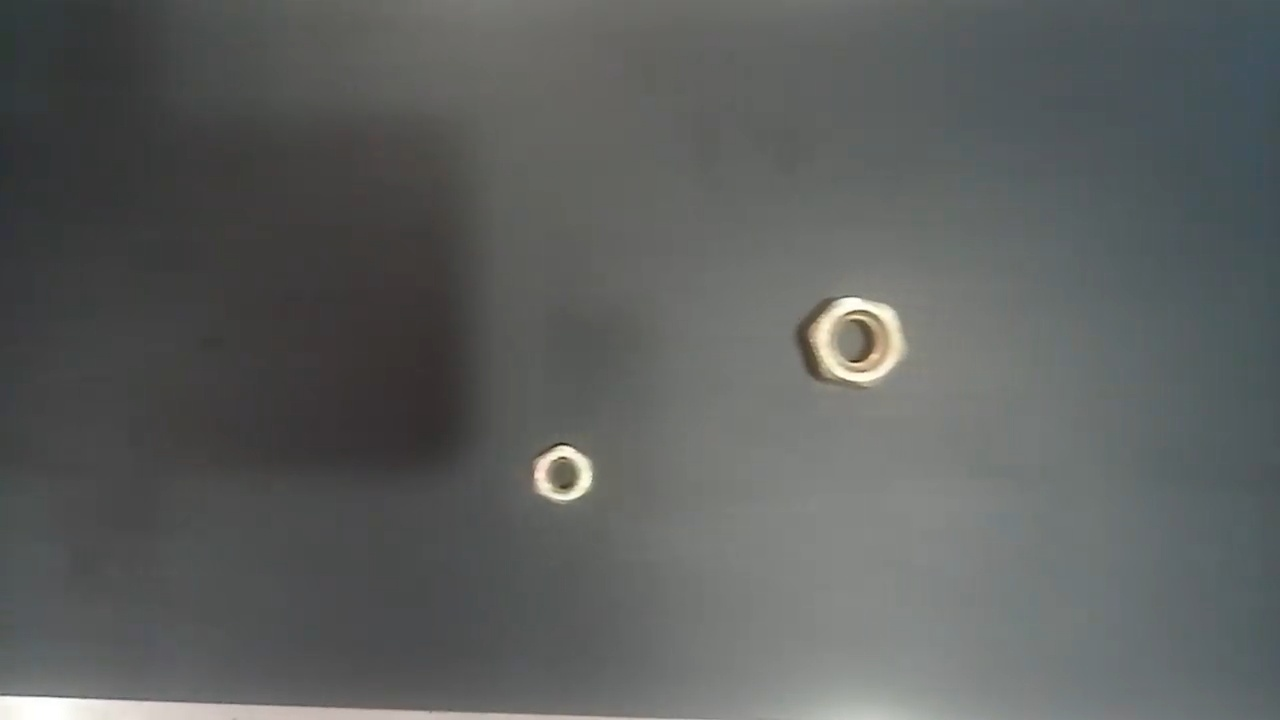Bolt: (797, 293, 907, 389), (528, 440, 594, 505)
